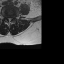CCS_stenosis: (8, 16, 10, 23)
LFS_severe_stenosis: (12, 15, 14, 20)
LLS_stenosis: (10, 16, 12, 21)
RFS_severe_stenosis: (5, 15, 6, 20)
RLS_severe_stenosis: (6, 16, 8, 20)
